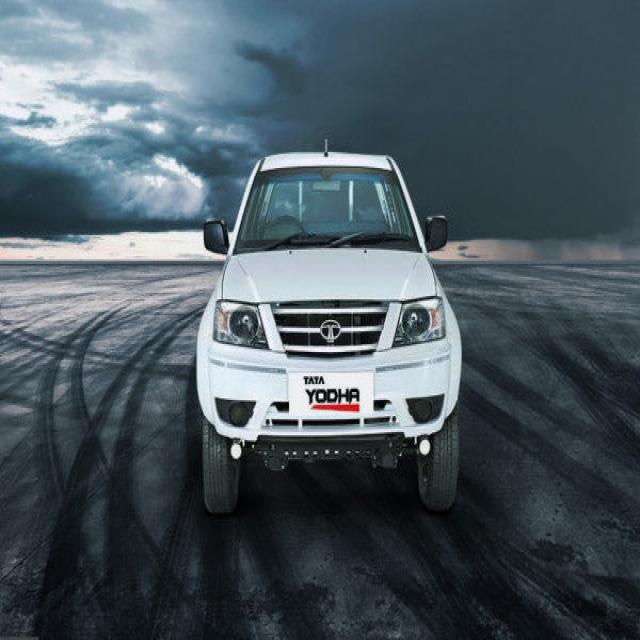light_vehicle: (198, 150, 469, 506)
